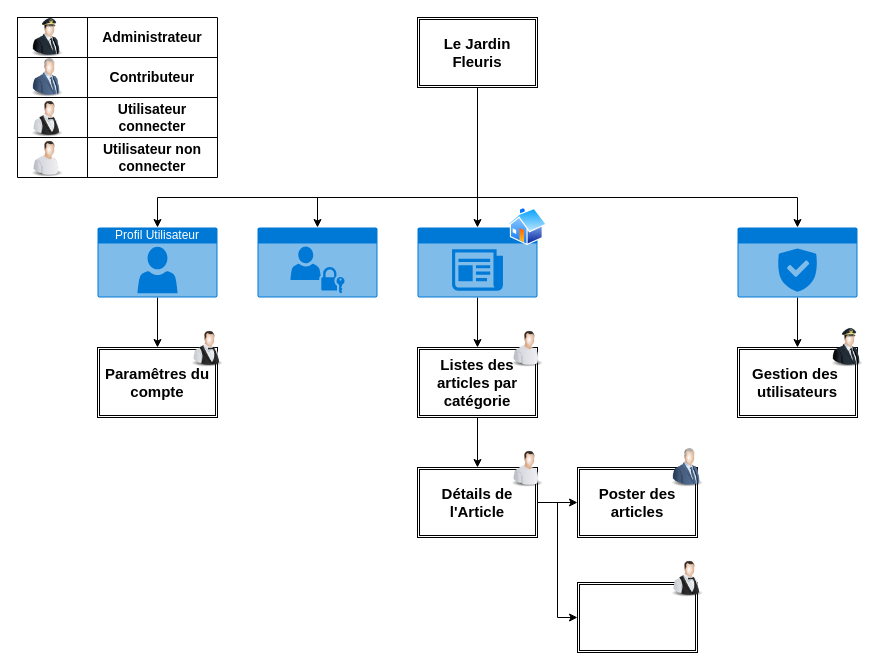
This 885x670 diagram has some shape labels left out. The centre of each missing label's shape, as x and y in pixels:
Adiministrateur: point (797, 262)
Article: point (477, 262)
Commenter des articles: point (637, 617)
Login / Logout: point (317, 262)
